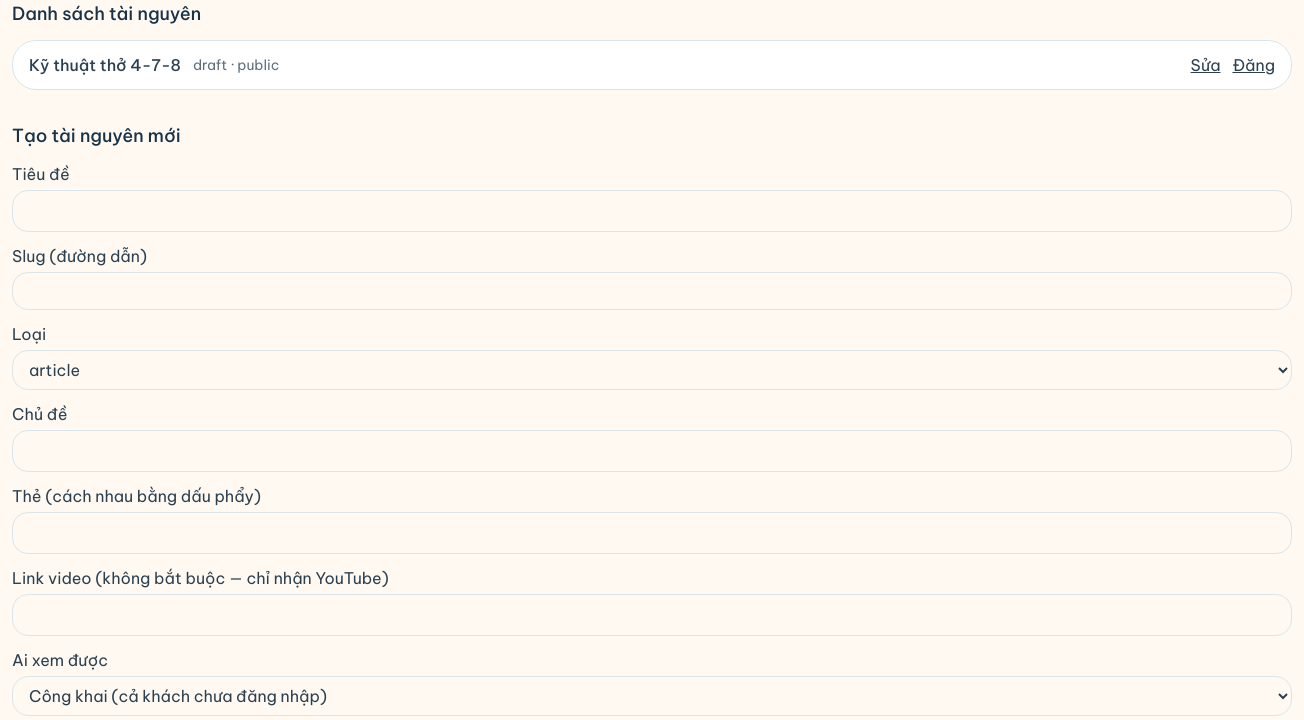
Test: ResourceEditor › sửa bài đã có, xoá trắng slug rồi lưu: từ chối và KHÔNG tự sinh slug từ tiêu đề
Expected: the text "Kỹ thuật thở 4-7-8" is shown, [29,53,181,77]
Click the button "Sửa" at (1206,65), box [1191,53,1220,77]
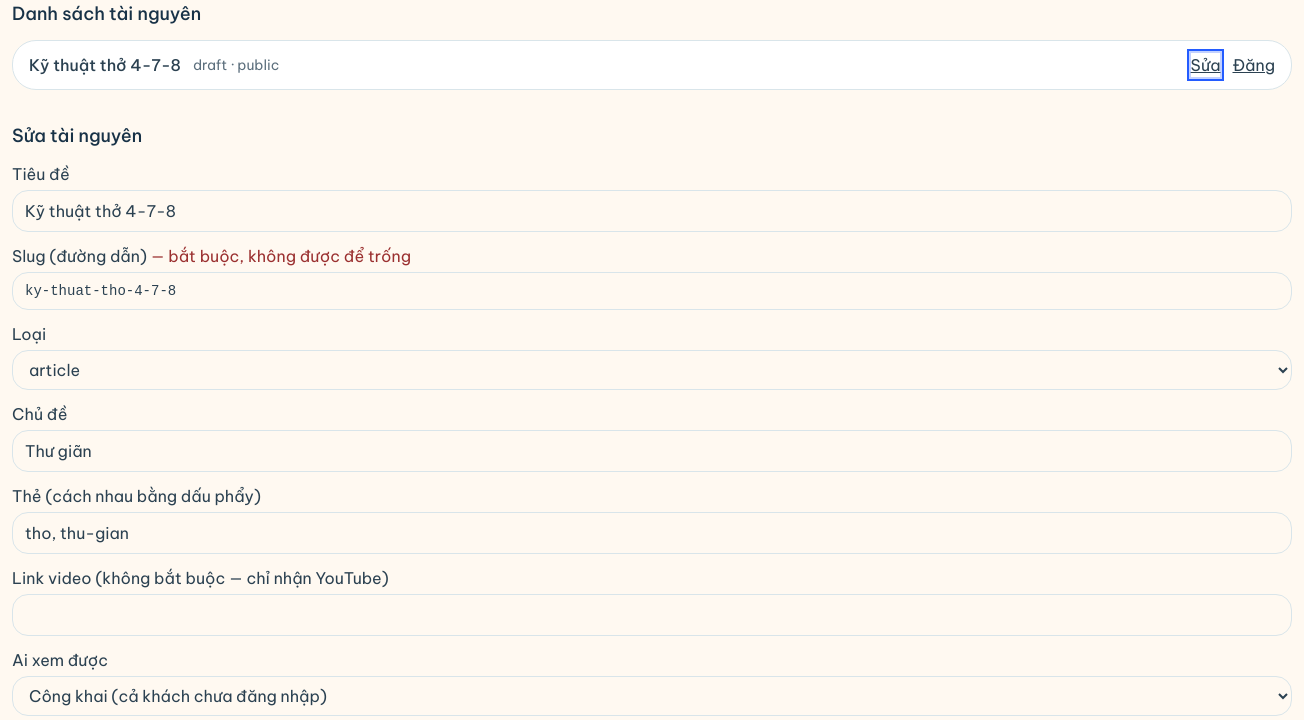
Clear the field labelled "Slug (đường dẫn) — bắt buộc, không được để trống" at (652,291), box [12,272,1292,310]
(page scrolled)
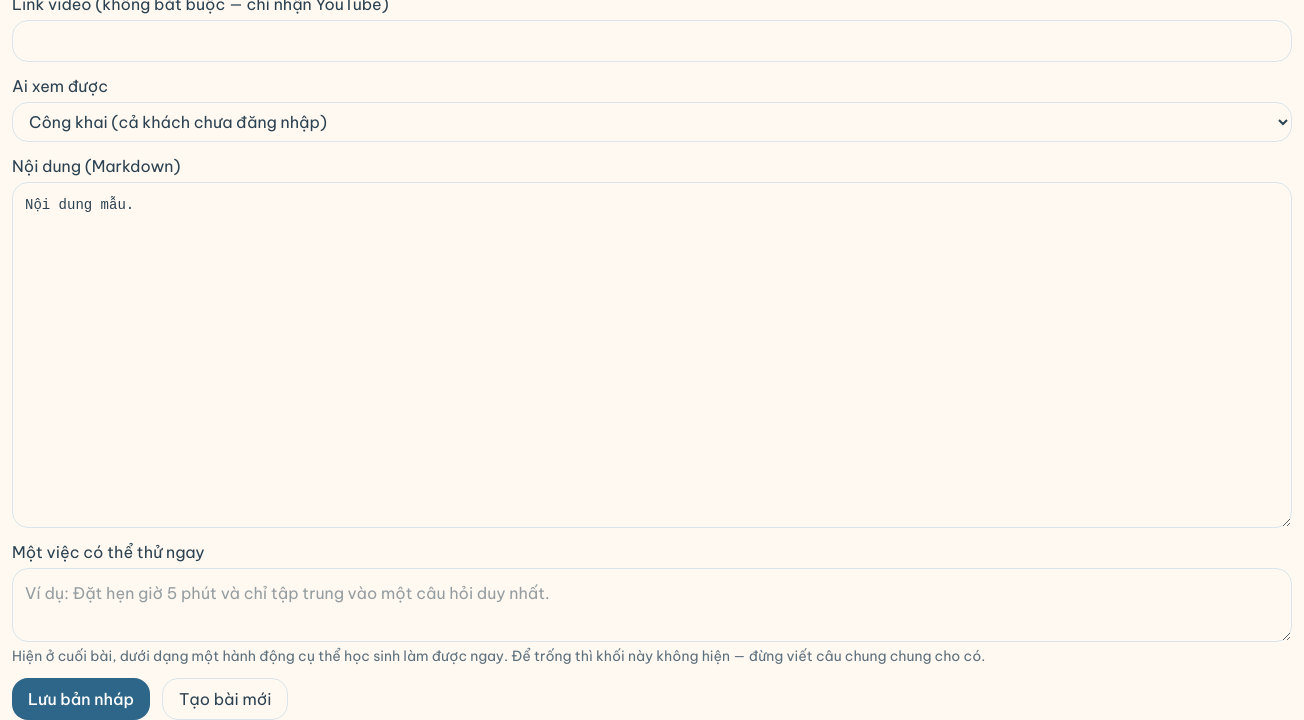
Click the button "Lưu bản nháp" at (81,699), box [12,678,150,719]
(page scrolled)
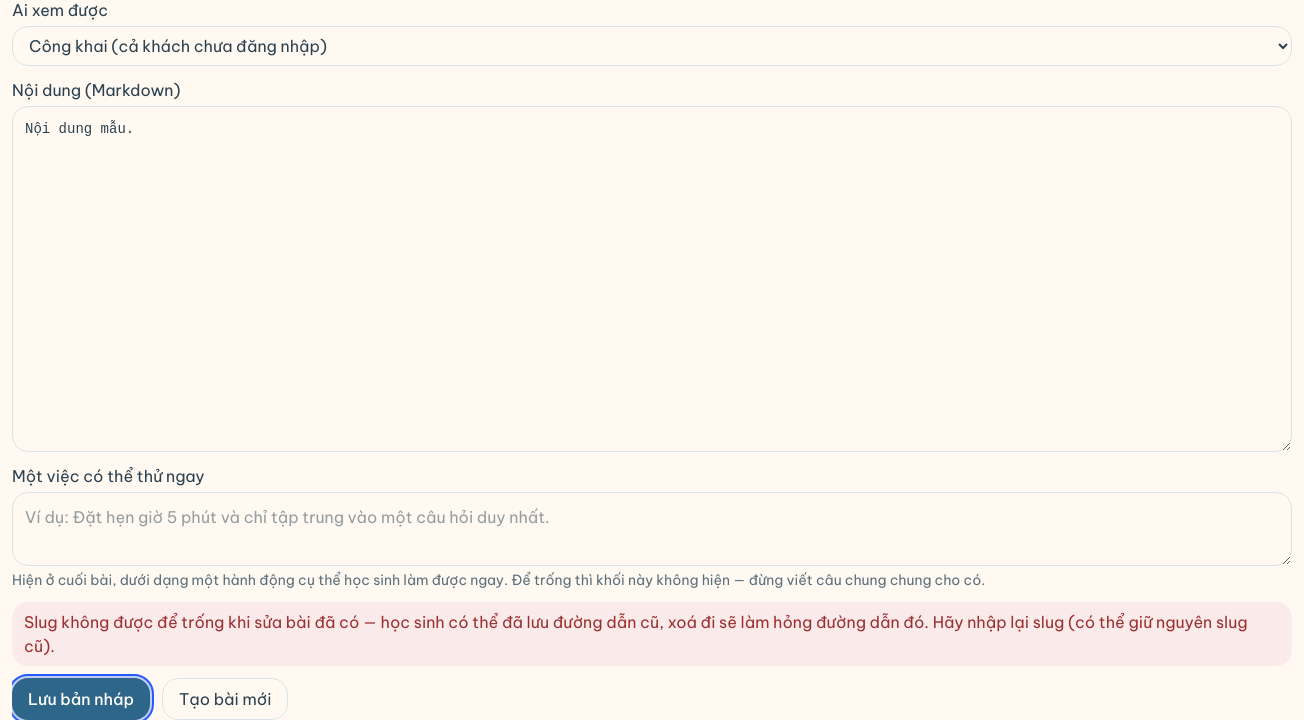
Expected: the message shows "không được để trống", [24,612,1248,656]
